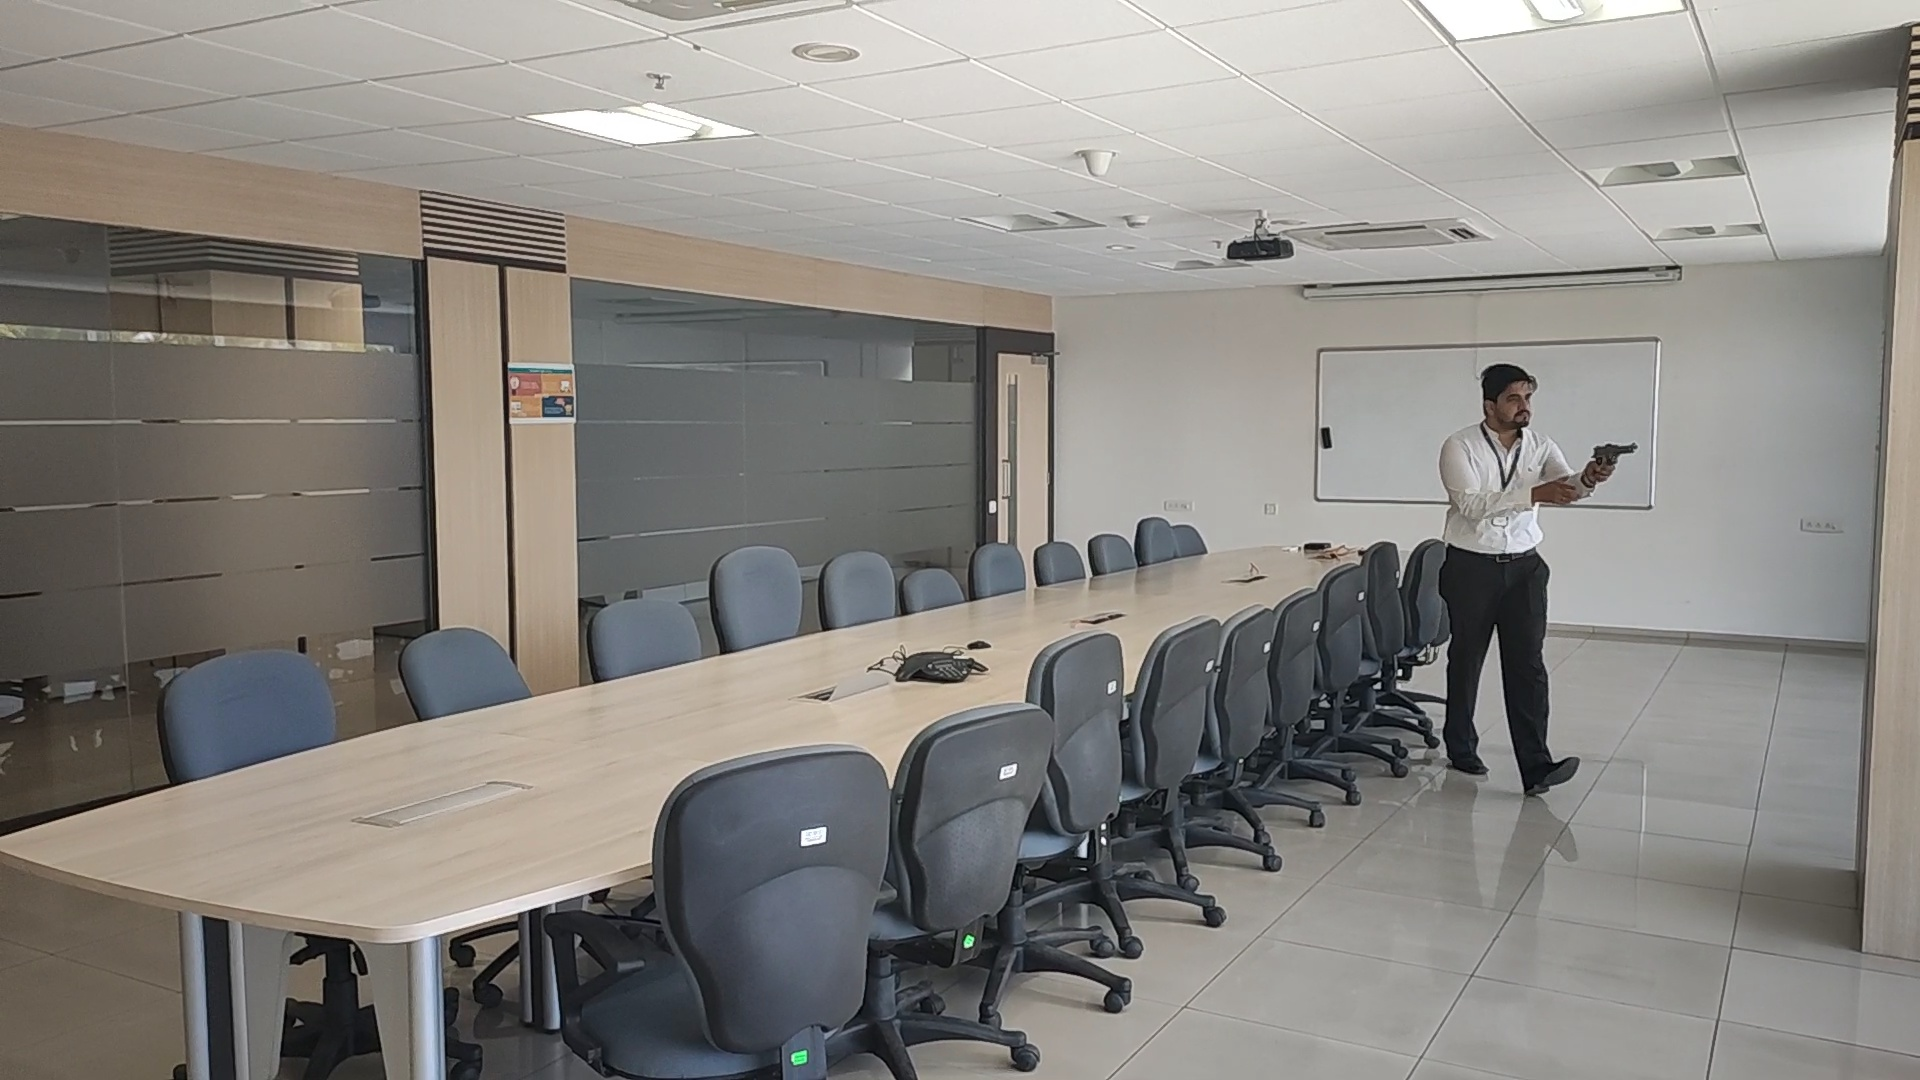knife: (1589, 442, 1639, 460)
